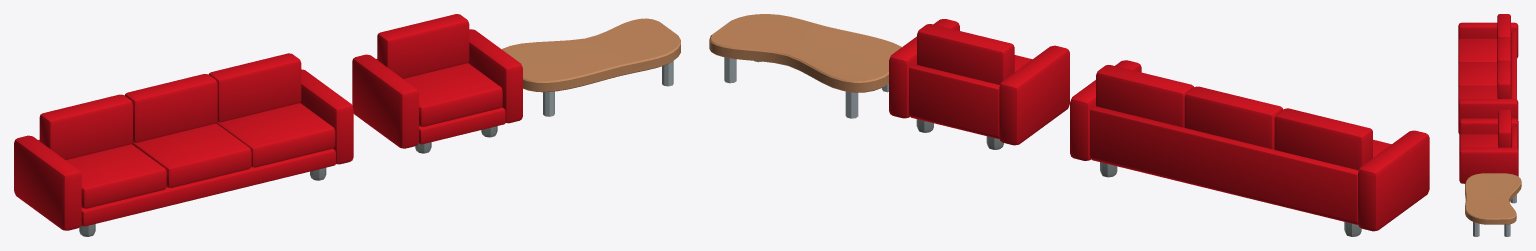
Rendered from Sofa with tabell.fbx.
The picture shows the model from 3 angles, left to right: view 1: azimuth 30°, elevation 25°; view 2: azimuth 150°, elevation 25°; view 3: azimuth 270°, elevation 25°; orthographic projection. The views are drawn at different scales.
Parts seen in each view (by area): view 1: SOFA.Small, SOFA, Table; view 2: SOFA.Small, SOFA, Table; view 3: SOFA.Small, SOFA, Table.
Boxes of the visible parts, x1=… form: SOFA.Small: x1=14, y1=53, x2=353, y2=236; SOFA: x1=352, y1=14, x2=522, y2=153; Table: x1=502, y1=18, x2=680, y2=116; SOFA.Small: x1=1070, y1=60, x2=1429, y2=236; SOFA: x1=889, y1=19, x2=1069, y2=149; Table: x1=709, y1=14, x2=901, y2=118; SOFA.Small: x1=1458, y1=14, x2=1518, y2=133; SOFA: x1=1459, y1=109, x2=1518, y2=183; Table: x1=1465, y1=173, x2=1521, y2=236.
Size of the model in its own units: 723 by 104 by 108.
